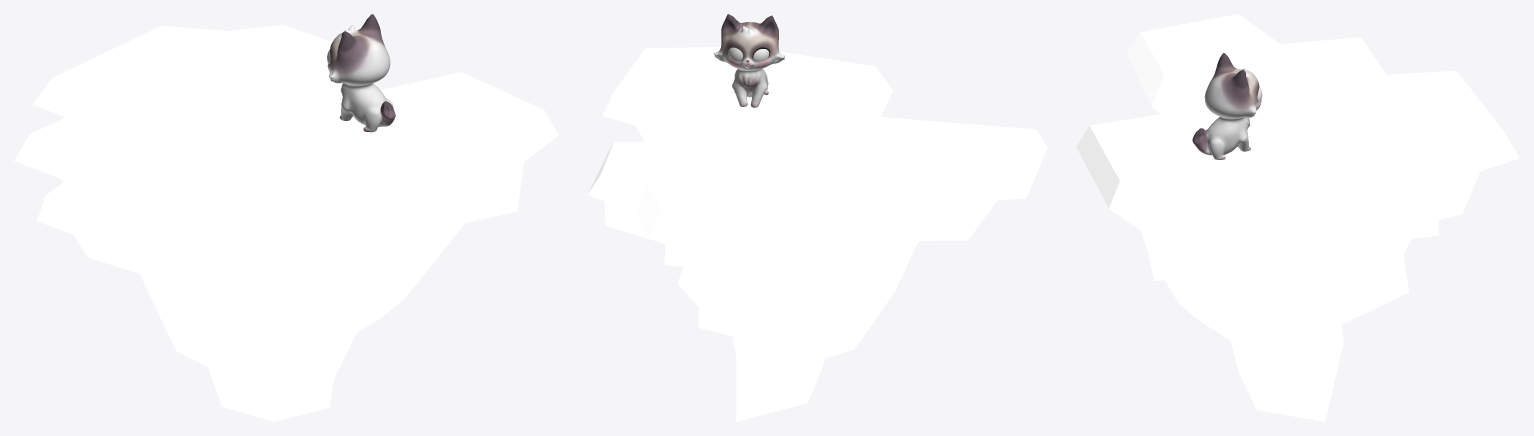
The model's file is Islandone.glb.
3 renders of one model, left to right at view 1: azimuth 30°, elevation 25°; view 2: azimuth 150°, elevation 25°; view 3: azimuth 270°, elevation 25°, orthographic. The views are drawn at different scales.
Parts seen in each view (by area): view 1: Island_one, Body; view 2: Island_one, Body; view 3: Island_one, Body.
Part boxes in pixels (x1,y1,x2,y2): Island_one: (14, 25, 558, 421); Body: (327, 14, 395, 132); Island_one: (587, 47, 1047, 421); Body: (713, 14, 785, 107); Island_one: (1076, 14, 1519, 421); Body: (1192, 53, 1262, 159).
Bounding box in the file's own units: 6.38 × 5.24 × 5.61.
8 materials, 2 textured.
